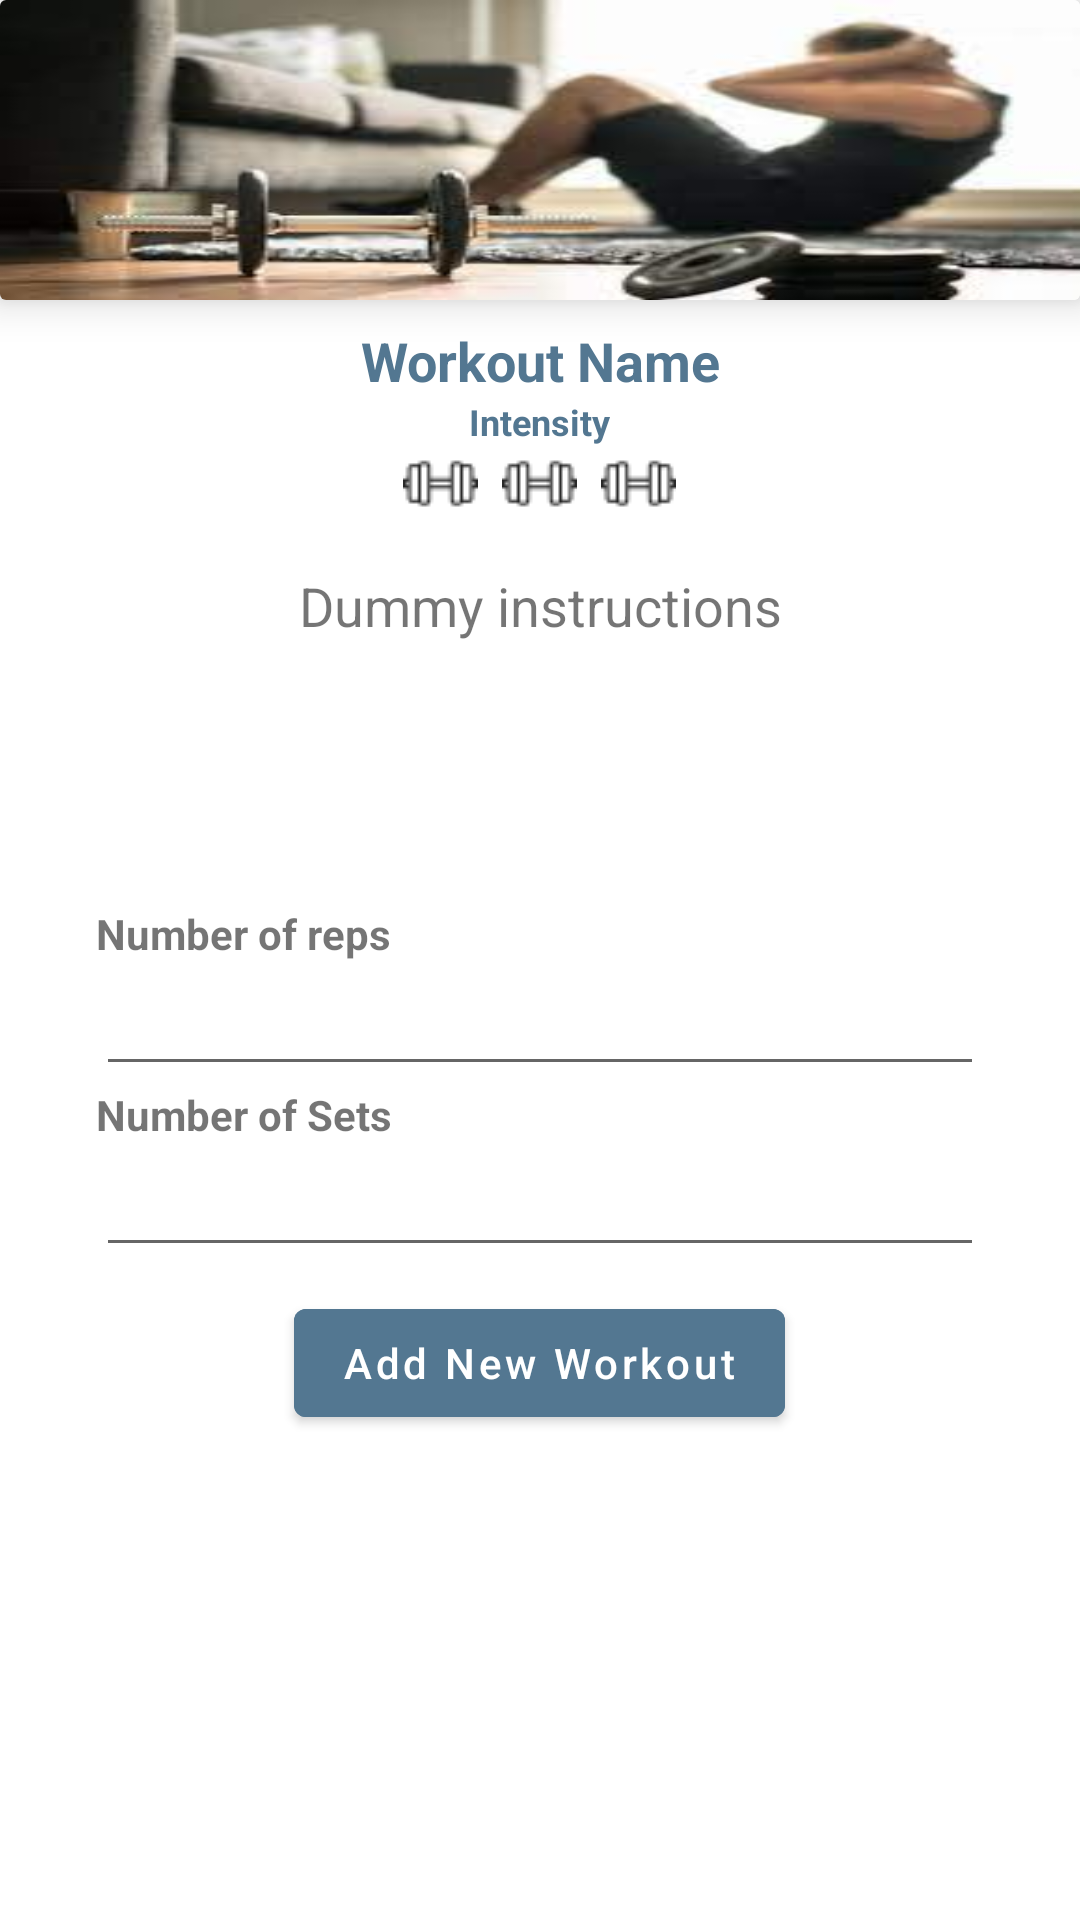

Where icons sit on this 1080 × 1920 app screen, as (left=x1, top=y1, right=x2, bottom=y2):
dumbell: (left=403, top=460, right=478, bottom=507), (left=502, top=460, right=577, bottom=507), (left=601, top=460, right=676, bottom=507)
